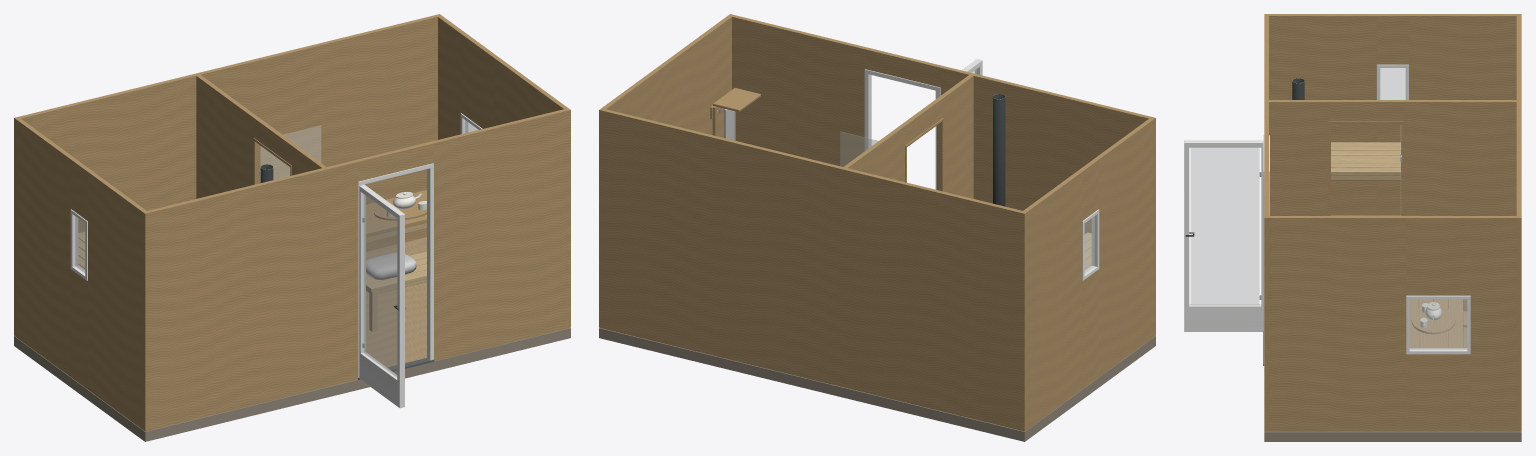
3 renders of one model, left to right at view 1: azimuth 30°, elevation 25°; view 2: azimuth 150°, elevation 25°; view 3: azimuth 270°, elevation 25°, orthographic.
Visible parts, largest first — view 1: ПГ1 wall, ПГ2 wall, ПГ3 wall, DachaPar_18, Hinge_DP14-D02, ПГ4 wall, ПГ5 wall, Door entry p14_i5266, Л2 bench, С1 table, Hinge_DP14-D01, Window p14_i5270; view 2: ПГ2 wall, ПГ1 wall, ПГ3 wall, ПГ4 wall, ПГ5 wall, DachaPar_18, ASTON dimensioned stove and remote firebox, В1 wall hook rail, Window p14_i5270, Door entry p14_i5266, Hinge_DP14-D01, Door steam p14_i5242; view 3: ПГ4 wall, ПГ3 wall, ПГ5 wall, Hinge_DP14-D02, Window p14_i5272, DachaPar_18, С1 table, ПГ2 wall, ВП1 upper, ПГ1 wall, Window p14_i5270, Door steam p14_i5242 (+2 smaller).
Part boxes in pixels (x1,y1,x2,y2): ПГ1 wall: (142, 108, 570, 431); ПГ2 wall: (14, 14, 441, 336); ПГ3 wall: (16, 118, 146, 429); DachaPar_18: (14, 237, 570, 441); Hinge_DP14-D02: (359, 184, 405, 407); ПГ4 wall: (438, 16, 567, 139); ПГ5 wall: (196, 75, 326, 198); Door entry p14_i5266: (358, 163, 434, 379); Л2 bench: (366, 251, 426, 331); С1 table: (366, 190, 426, 237); Hinge_DP14-D01: (260, 125, 320, 182); Window p14_i5270: (70, 209, 87, 280); ПГ2 wall: (599, 108, 1027, 431); ПГ1 wall: (728, 14, 1155, 336); ПГ3 wall: (1023, 118, 1153, 429); ПГ4 wall: (602, 16, 731, 137); ПГ5 wall: (843, 75, 973, 198); DachaPar_18: (599, 328, 1155, 441); ASTON dimensioned stove and remote firebox: (992, 94, 1005, 206); В1 wall hook rail: (710, 88, 760, 140); Window p14_i5270: (1082, 209, 1099, 280); Door entry p14_i5266: (864, 69, 940, 189); Hinge_DP14-D01: (840, 131, 877, 166); Door steam p14_i5242: (905, 118, 943, 191); ПГ4 wall: (1269, 216, 1516, 431); ПГ3 wall: (1269, 14, 1516, 215); ПГ5 wall: (1269, 100, 1516, 311); Hinge_DP14-D02: (1184, 140, 1263, 331); Window p14_i5272: (1406, 295, 1470, 354); DachaPar_18: (1264, 327, 1521, 441); С1 table: (1409, 299, 1463, 348); ПГ2 wall: (1516, 14, 1521, 431); ВП1 upper: (1331, 142, 1400, 175); ПГ1 wall: (1264, 14, 1268, 431); Window p14_i5270: (1376, 64, 1408, 99); Door steam p14_i5242: (1328, 121, 1403, 215).
Size of the model in its own units: 4.52 by 2.31 by 3.14.
27 materials, 9 textured.
